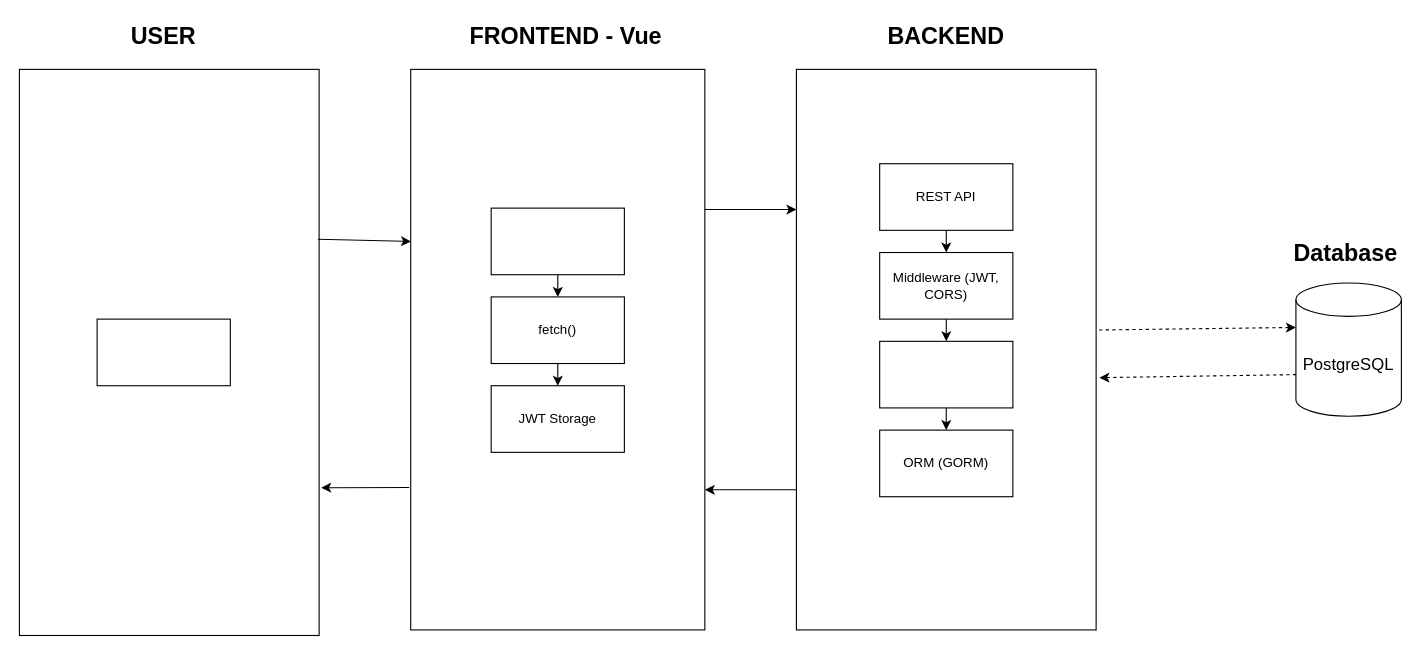
This 1421x655 diagram has some shape labels left out. Each missing label, with the centre of its shape:
Business logic: (x=946, y=374)
HTTPS: (x=163, y=352)
UI: (x=557, y=241)
